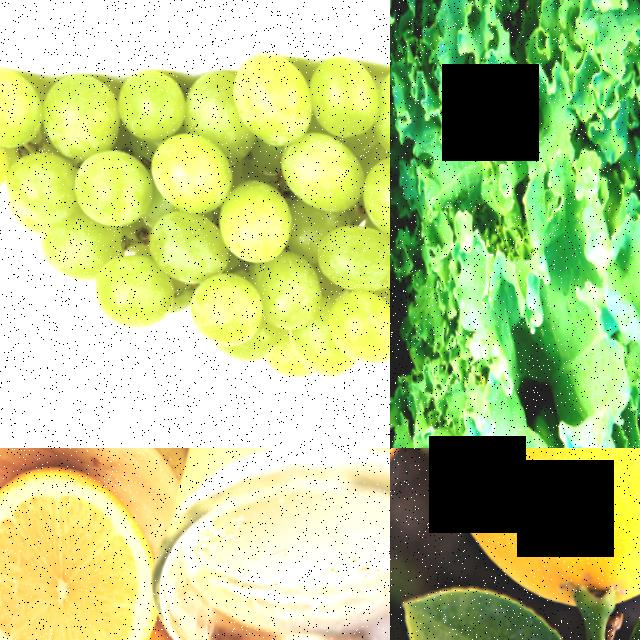grapes: (0, 16, 390, 416)
lemon: (404, 448, 640, 599), (0, 468, 155, 640)
lettuce: (390, 0, 640, 448)
